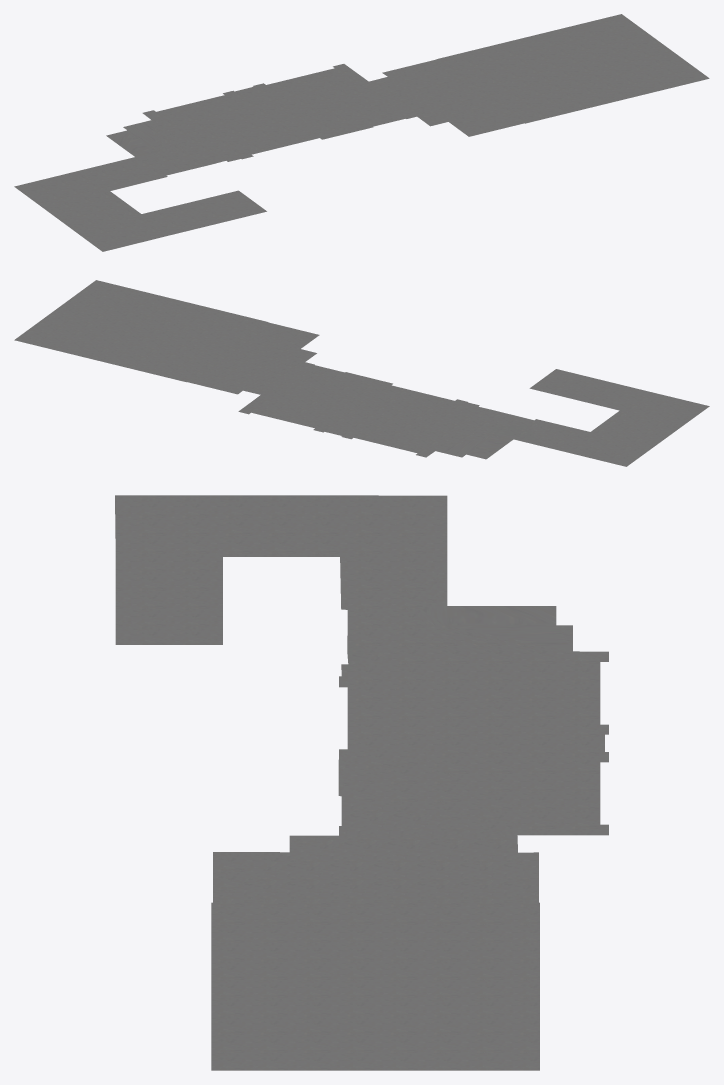
The model's file is envSecondFloor_Ceiling.fbx.
3 views of the same model, one above another, from view 1: azimuth 30°, elevation 25°; view 2: azimuth 150°, elevation 25°; view 3: azimuth 270°, elevation 25° (orthographic). The views are drawn at different scales.
Parts seen in each view (by area): view 1: envSecondFloor_Ceiling; view 2: envSecondFloor_Ceiling; view 3: envSecondFloor_Ceiling.
Boxes of the visible parts, x1,y1,x2,y2 form: envSecondFloor_Ceiling: (14,14,709,251); envSecondFloor_Ceiling: (14,280,709,466); envSecondFloor_Ceiling: (115,495,608,1070).
Size of the model in its own units: 10684 by 1.84 by 3877.
Materials: 1 (1 with a texture image).
